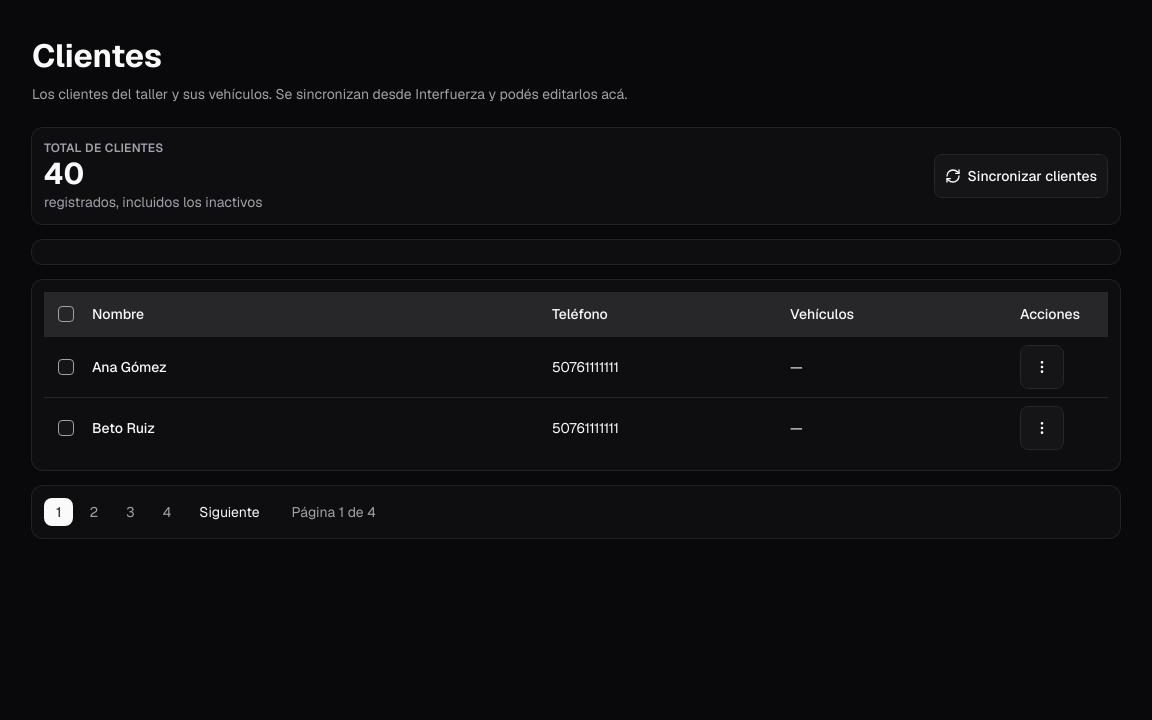
Test case: CustomersPage — bulk activar/desactivar (WU5) › names a since-deleted customer and still applies the rest of the batch
What coordinates should you click on to do the following:
click the checkbox named "Seleccionar Ana Gómez"
I would click on:
 (66, 367)
Its box is 58,359 -> 74,375.
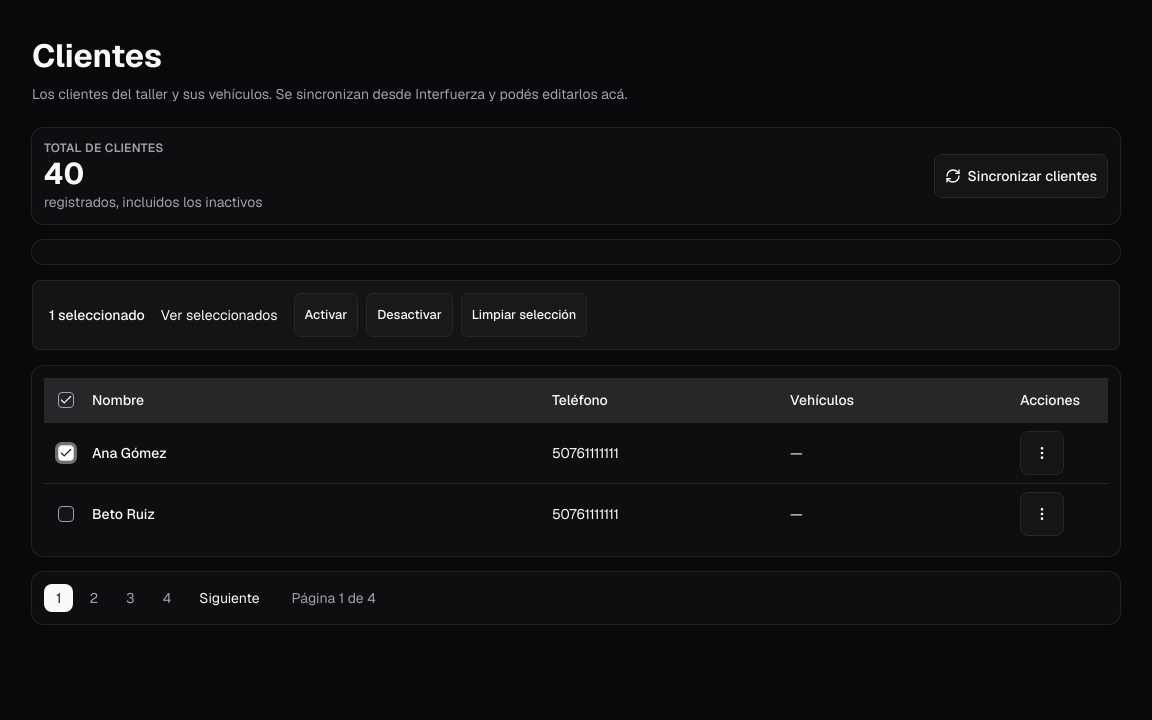
What coordinates should you click on to do the following:
click the checkbox named "Seleccionar Beto Ruiz"
I would click on:
 (66, 514)
Its box is 58,506 -> 74,522.
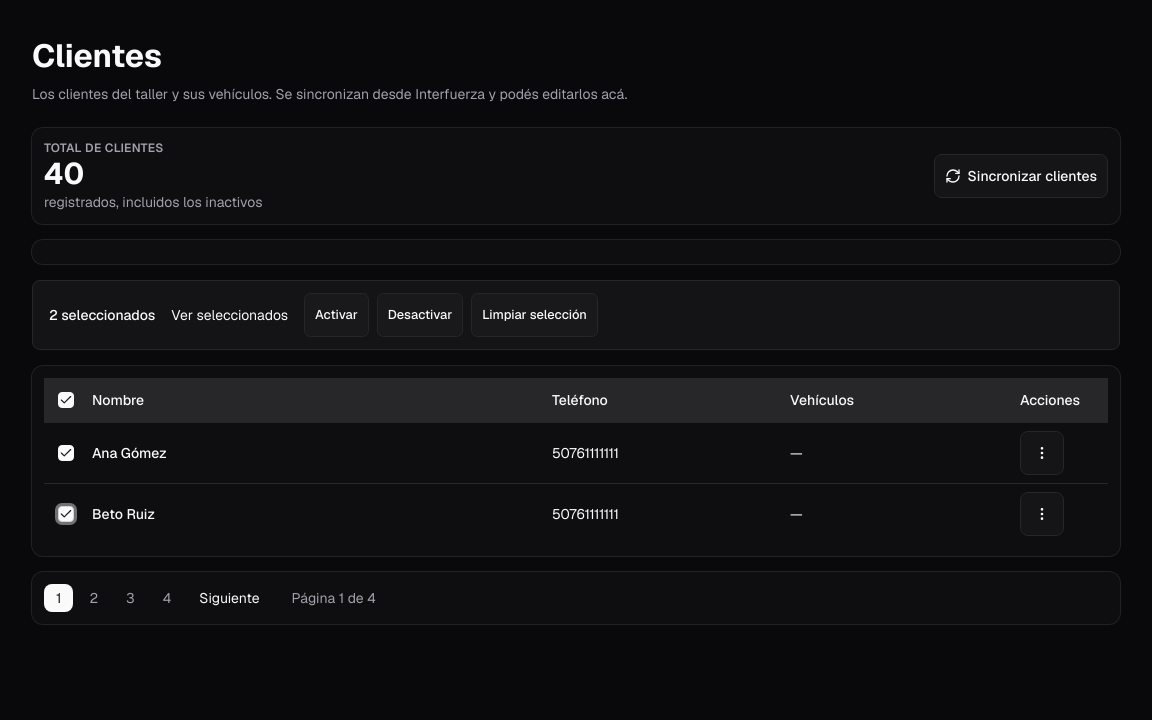
What coordinates should you click on to do the following:
click the button "Desactivar"
I would click on:
 (420, 315)
Its box is 377,293 -> 463,337.
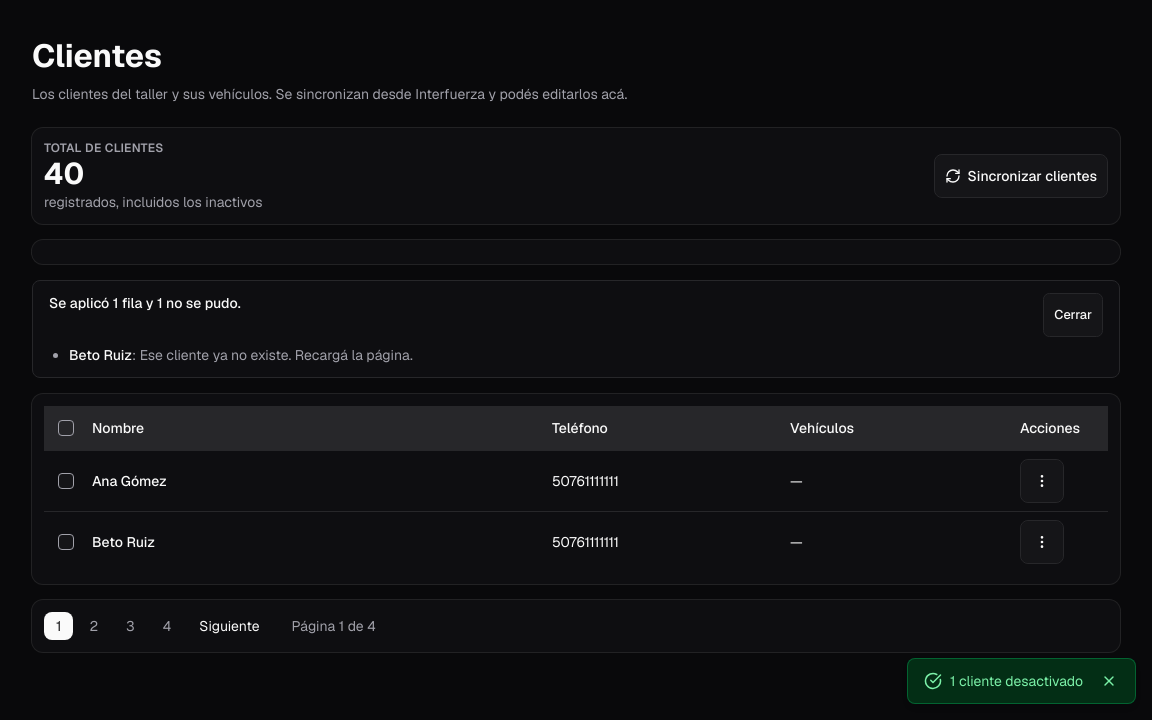
Result: the text "Se aplic" shows "Se aplicó 1 fila" at 49,294 -> 142,312
Result: the list item shows "Beto Ruiz" at 69,346 -> 132,364
Result: the list item shows "Ese cliente ya no existe. Recargá la página." at 140,346 -> 413,364
